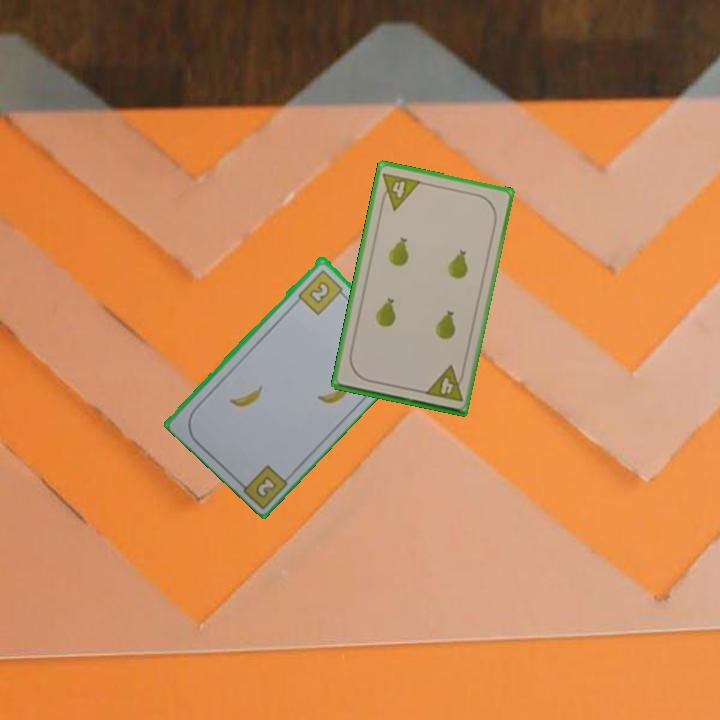2b: (294, 266, 349, 317), (254, 475, 277, 499)
4p: (376, 169, 424, 213), (421, 362, 467, 404)
